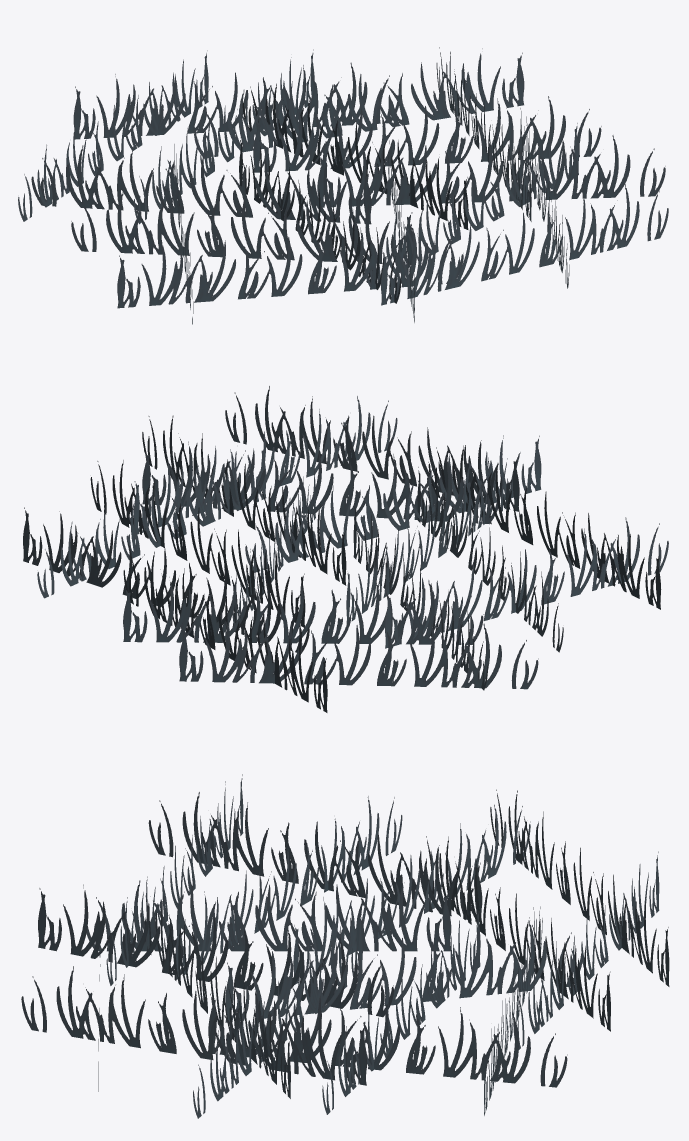
Rendered from Sunken Tomb Surface Grass.fbx.
3 views of the same model, one above another, from view 1: azimuth 30°, elevation 25°; view 2: azimuth 150°, elevation 25°; view 3: azimuth 270°, elevation 25° (orthographic). The views are drawn at different scales.
Visible parts, largest first — view 1: Surface Grass; view 2: Surface Grass; view 3: Surface Grass.
Boxes of the visible parts, x1,y1,x2,y2 form: Surface Grass: [18, 47, 668, 324]; Surface Grass: [23, 386, 668, 712]; Surface Grass: [21, 774, 669, 1118].
Bounding box in the file's own units: 707 × 91.98 × 661.
